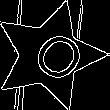O_SW: (15, 22, 84, 89)
